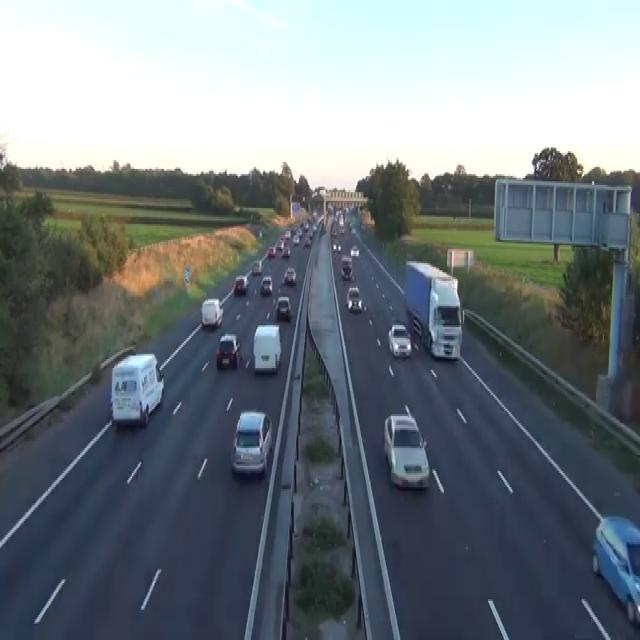Car: (591, 514, 639, 626), (383, 412, 430, 489), (231, 411, 272, 476), (216, 332, 240, 370), (388, 323, 411, 358), (201, 297, 223, 327), (346, 284, 362, 313), (275, 295, 291, 320), (233, 274, 249, 295), (340, 256, 352, 279), (283, 266, 296, 284), (260, 276, 272, 295), (251, 260, 262, 274), (350, 244, 359, 258), (267, 245, 276, 258), (281, 245, 290, 258), (332, 242, 342, 252), (275, 238, 283, 249), (304, 237, 311, 246), (284, 230, 291, 238), (293, 234, 299, 243), (339, 224, 345, 233), (331, 230, 337, 238), (347, 220, 351, 230), (351, 226, 356, 233), (258, 230, 262, 238)
Truck: (403, 260, 463, 359), (110, 352, 164, 427), (252, 324, 281, 374)
